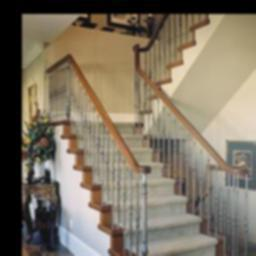Escaleras: (66, 76, 241, 256), (129, 18, 234, 125)
